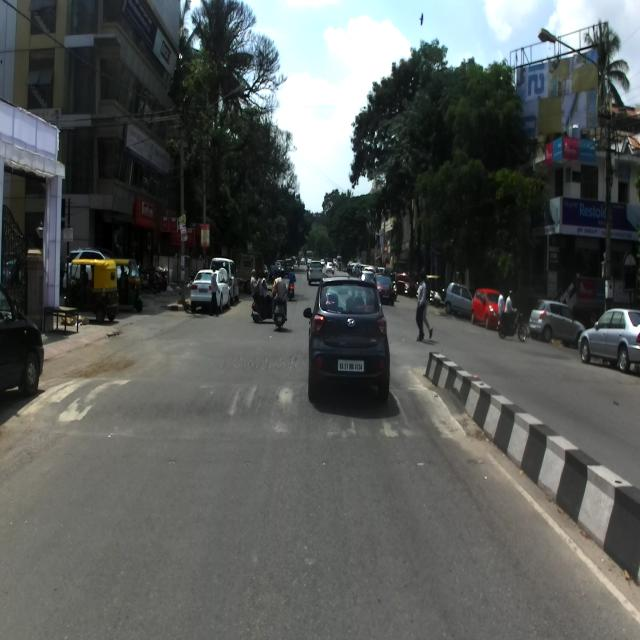auto ahead at: (70, 252, 122, 322)
car ahead at: (303, 269, 395, 418)
person ahead at: (414, 266, 434, 354)
